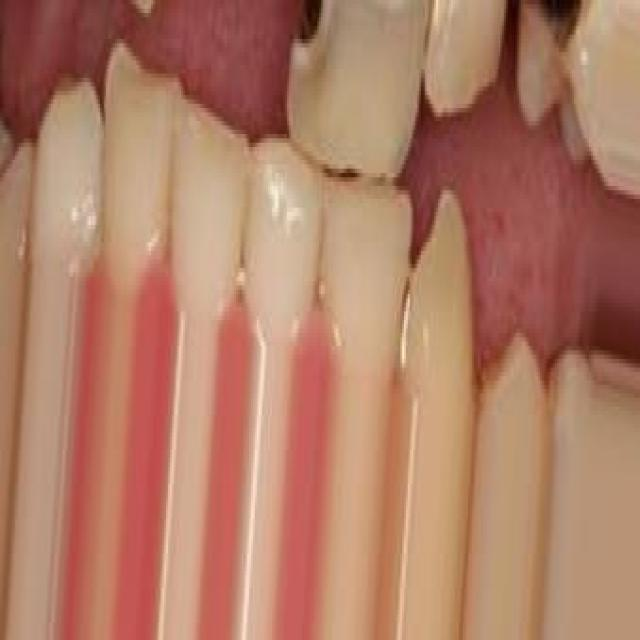caries: (282, 0, 361, 135), (517, 0, 587, 121)
